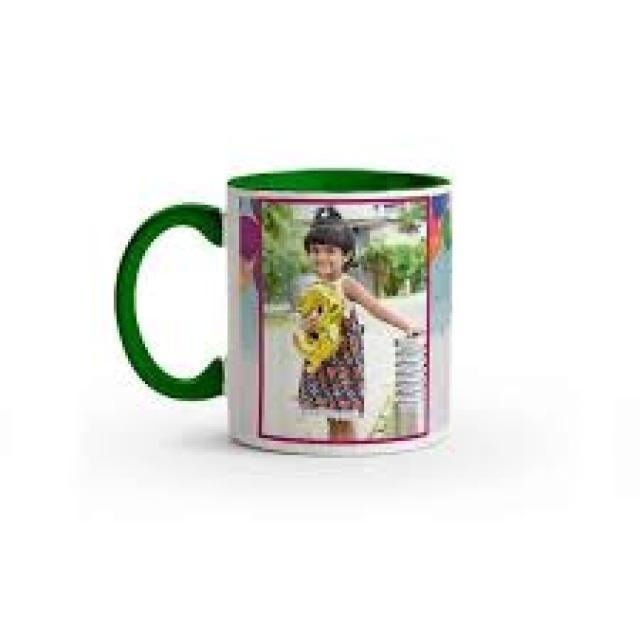taza: (113, 164, 454, 458)
